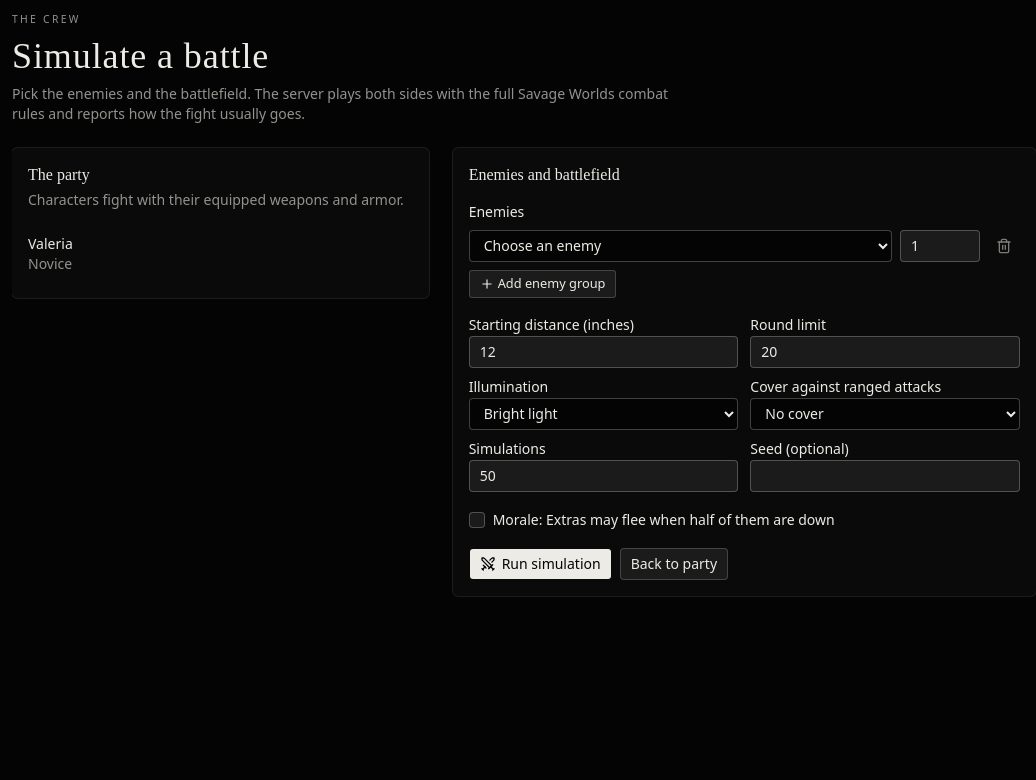
NewBattleRoute › lists the party and validates the enemy selection
expect the text "Valeria" is shown: met, box top-left (28, 234), bottom-right (73, 253)
Click the button "Run simulation" at (540, 564), box top-left (469, 548), bottom-right (612, 580)
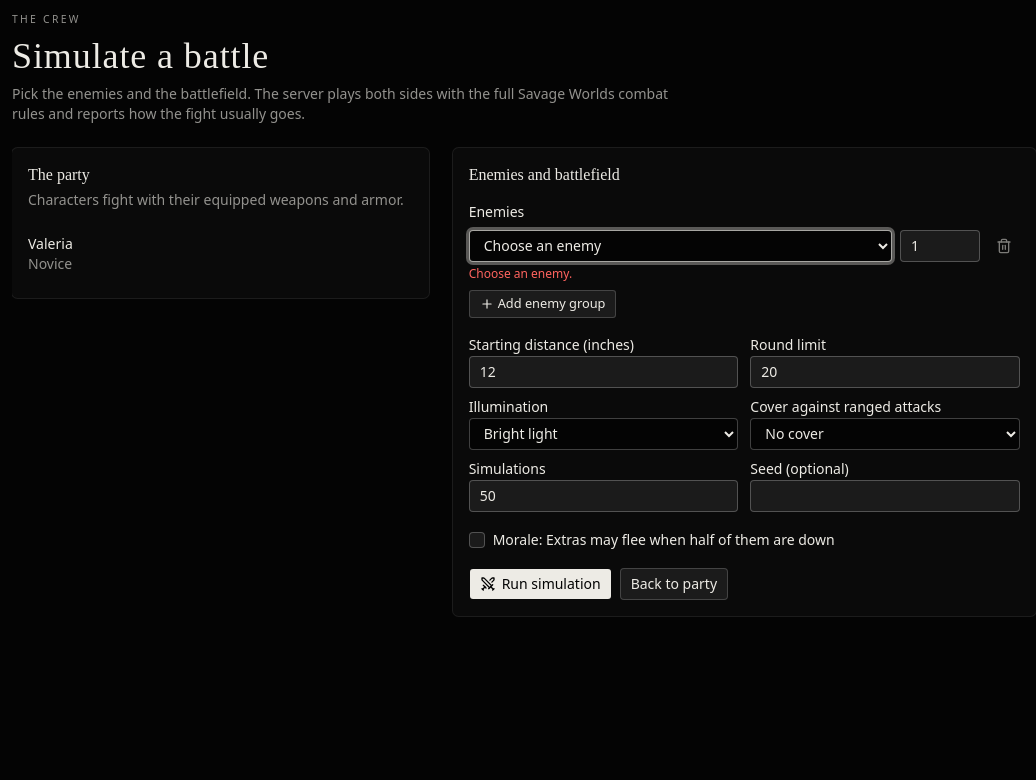
expect the text "Choose an enemy." is shown: met, box top-left (469, 265), bottom-right (572, 282)
